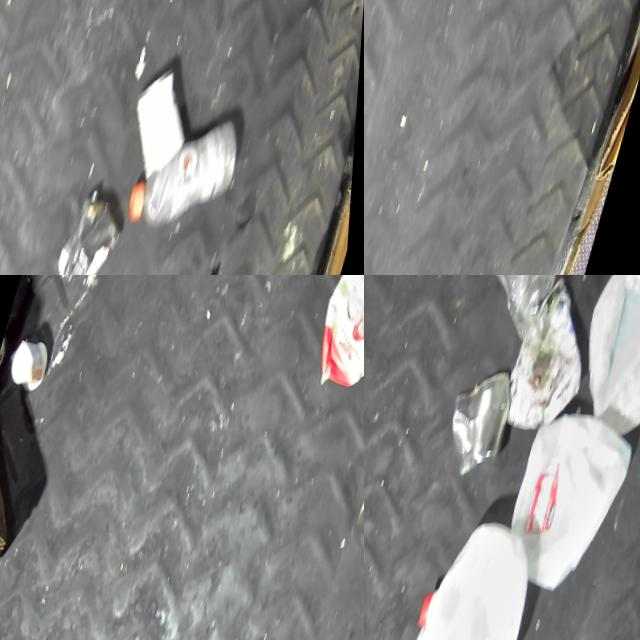can: (438, 359, 526, 494), (119, 61, 206, 185)
milk_jug: (490, 402, 640, 607), (398, 514, 553, 640), (564, 275, 640, 444)
non_white_jug: (306, 275, 364, 404)
plastic_bottle: (126, 104, 252, 243), (454, 275, 581, 350)
